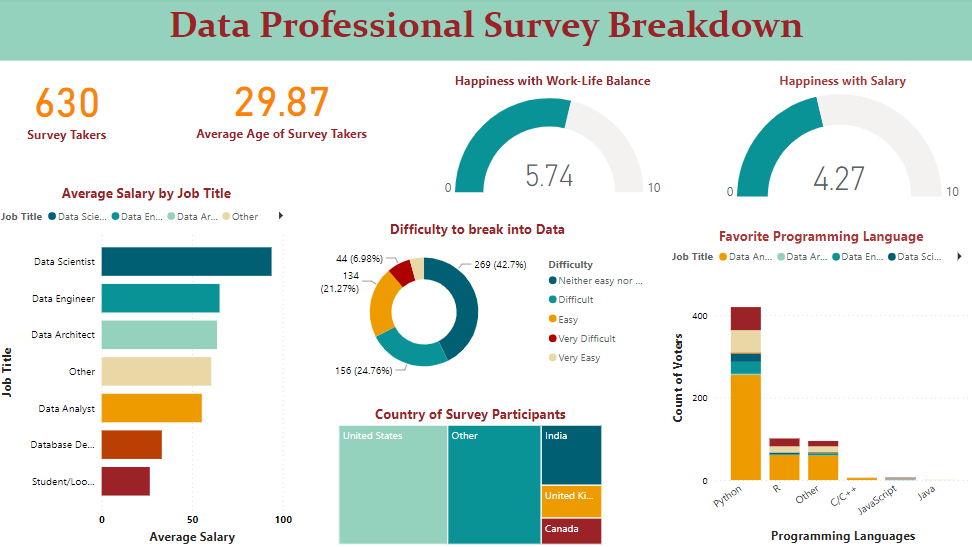

What the dashboard file says about the page in this screenshot:
{"tool":"powerbi","page":{"name":"Page 1","canvas":[1280,720],"ordinal":0},"visuals":[{"type":"textbox","box":[10.1,0,1270.1,82.1],"z":0},{"type":"card","title":"Around","fields":{"Values":["CountNonNull(Data Professional Survey.Unique ID)"]},"box":[385.9,89.3,161.3,110.9],"z":1000},{"type":"card","title":"Around","fields":{"Values":["Avg(Data Professional Survey.Q10 - Current Age)"]},"box":[328.3,210.2,276.5,112.3],"z":2000},{"type":"barChart","title":"Average Salary by Job Title","fields":{"Category":["Data Professional Survey.Q1 - Which Title Best Fits your Current Role?.1"],"Y":["Avg(Data Professional Survey.Average Salary)"],"Series":["Data Professional Survey.Q1 - Which Title Best Fits your Current Role?.1"]},"box":[836.6,322.6,443.5,397.4],"z":3000},{"type":"columnChart","title":"Favorite Programming Language","fields":{"Category":["Data Professional Survey.Q5 - Favorite Programming Language.1"],"Y":["CountNonNull(Data Professional Survey.Unique ID)"],"Series":["Data Professional Survey.Q1 - Which Title Best Fits your Current Role?.1"]},"box":[385.9,349.9,424.8,341.3],"z":4000},{"type":"treemap","title":"Country of Survey Participants","fields":{"Values":["CountNonNull(Data Professional Survey.Q11 - Which Country do you live in?.1)"],"Group":["Data Professional Survey.Q11 - Which Country do you live in?.1"]},"box":[10.1,89.3,318.2,277.9],"z":4001},{"type":"gauge","title":"Happiness with Salary","fields":{"Y":["Avg(Data Professional Survey.Q6 - How Happy are you in your Current Position with the following? (Salary))"],"MinValue":["Min(Data Professional Survey.Q6 - How Happy are you in your Current Position with the following? (Salary))"],"MaxValue":["Max(Data Professional Survey.Q6 - How Happy are you in your Current Position with the following? (Salary))1"]},"box":[639.4,89.3,289.4,220.3],"z":4002},{"type":"gauge","title":"Happiness with Work-Life Balance","fields":{"Y":["Avg(Data Professional Survey.Q6 - How Happy are you in your Current Position with the following? (Work/Life Balance))"],"MinValue":["Min(Data Professional Survey.Q6 - How Happy are you in your Current Position with the following? (Work/Life Balance))1"],"MaxValue":["Max(Data Professional Survey.Q6 - How Happy are you in your Current Position with the following? (Work/Life Balance))2"]},"box":[964.8,89.3,289.4,220.3],"z":4003},{"type":"donutChart","title":"Difficulty to break into Data","fields":{"Y":["CountNonNull(Data Professional Survey.Average Salary)"],"Series":["Data Professional Survey.Q7 - How difficult was it for you to break into Data?"],"Category":["Data Professional Survey.Q7 - How difficult was it for you to break into Data?"]},"box":[10.1,388.8,324,280.8],"z":4004}]}

Visuals, with their boxes in screenshot pixels (x1, y1, x2, y2), scaled from the page's 1280x720 canvas onto the 972x547 screenshot:
textbox: box(8, 0, 971, 62)
"Around" card: box(293, 68, 416, 152)
"Around" card: box(249, 160, 459, 245)
"Average Salary by Job Title" barChart: box(635, 245, 971, 546)
"Favorite Programming Language" columnChart: box(293, 266, 616, 525)
"Country of Survey Participants" treemap: box(8, 68, 249, 279)
"Happiness with Salary" gauge: box(486, 68, 705, 235)
"Happiness with Work-Life Balance" gauge: box(733, 68, 952, 235)
"Difficulty to break into Data" donutChart: box(8, 295, 254, 509)
